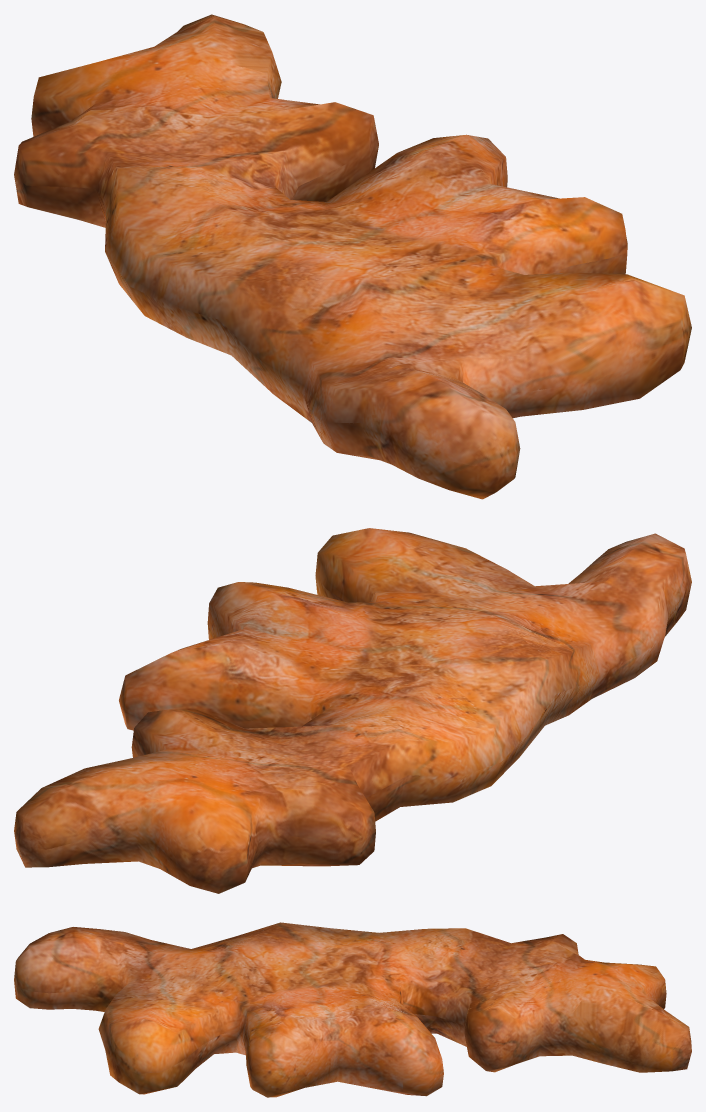
File: Kunyit.fbx
3 renders of one model, top to bottom at view 1: azimuth 30°, elevation 25°; view 2: azimuth 150°, elevation 25°; view 3: azimuth 270°, elevation 25°, orthographic. The views are drawn at different scales.
Parts seen in each view (by area): view 1: Kunyit; view 2: Kunyit; view 3: Kunyit.
Part boxes in pixels (box(x1,y1,x2,y2)): Kunyit: box(14, 14, 691, 499); Kunyit: box(14, 528, 691, 893); Kunyit: box(14, 922, 691, 1097).
Bounding box in the file's own units: 4.09 × 1.18 × 8.74.
1 material, 1 textured.
